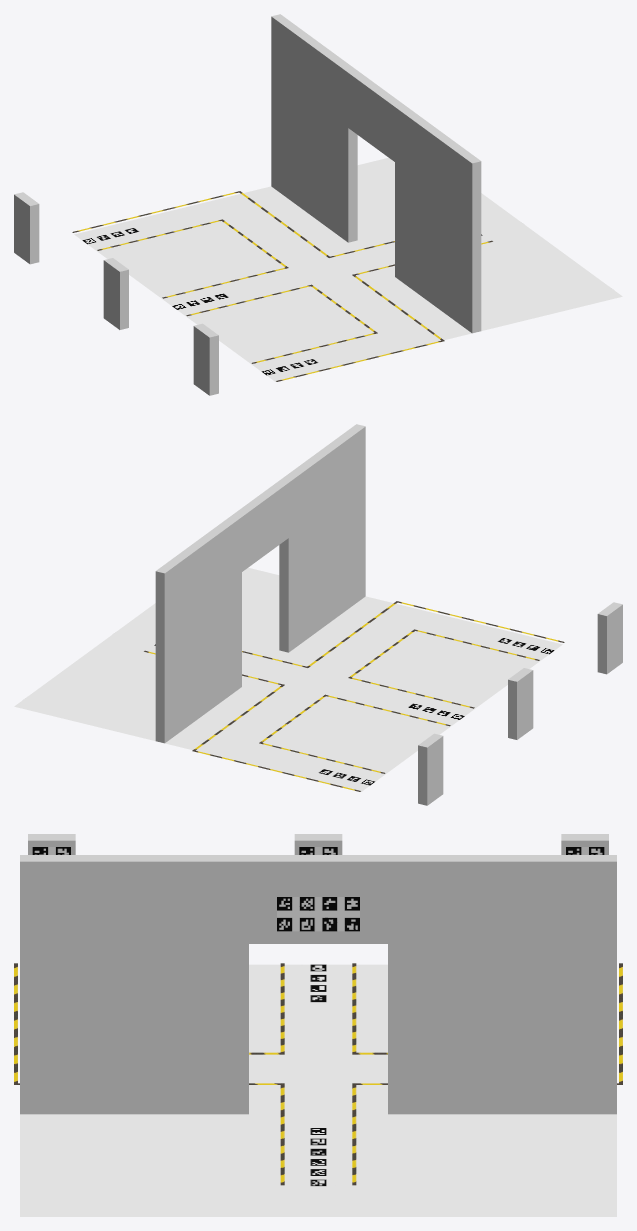
3 views of the same model, one above another, from view 1: azimuth 30°, elevation 25°; view 2: azimuth 150°, elevation 25°; view 3: azimuth 270°, elevation 25° (orthographic). The views are drawn at different scales.
Visible parts, largest first — view 1: grid_board_new_200_big_threepattern_errors, Cube.001, Cube, Cube.003, Cube.002; view 2: grid_board_new_200_big_threepattern_errors, Cube.001, Cube.002, Cube.003, Cube; view 3: Cube.001, grid_board_new_200_big_threepattern_errors, grid_board_new_100.001, Cube.003, Cube.002, Cube.
Part boxes in pixels (x1=…): grid_board_new_200_big_threepattern_errors: x1=74, y1=157, x2=622, y2=381; Cube.001: x1=271, y1=14, x2=481, y2=333; Cube: x1=193, y1=323, x2=218, y2=395; Cube.003: x1=103, y1=258, x2=128, y2=329; Cube.002: x1=14, y1=192, x2=39, y2=264; grid_board_new_200_big_threepattern_errors: x1=14, y1=567, x2=562, y2=791; Cube.001: x1=155, y1=424, x2=365, y2=743; Cube.002: x1=418, y1=733, x2=443, y2=805; Cube.003: x1=508, y1=668, x2=533, y2=739; Cube: x1=597, y1=602, x2=622, y2=674; Cube.001: x1=20, y1=855, x2=616, y2=1114; grid_board_new_200_big_threepattern_errors: x1=20, y1=964, x2=616, y2=1216; grid_board_new_100.001: x1=277, y1=897, x2=359, y2=931; Cube.003: x1=294, y1=834, x2=342, y2=854; Cube.002: x1=561, y1=834, x2=608, y2=854; Cube: x1=28, y1=834, x2=75, y2=854.
Size of the model in its own units: 8.85 by 7.65 by 3.52.
17 materials, 17 textured.
